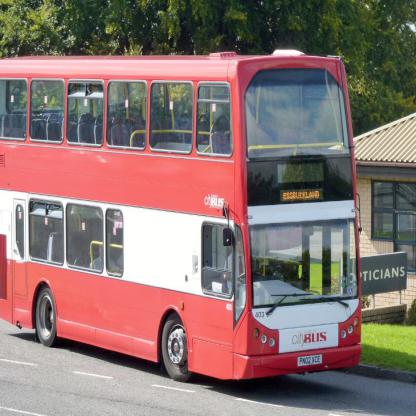Bus: (0, 47, 365, 382)
